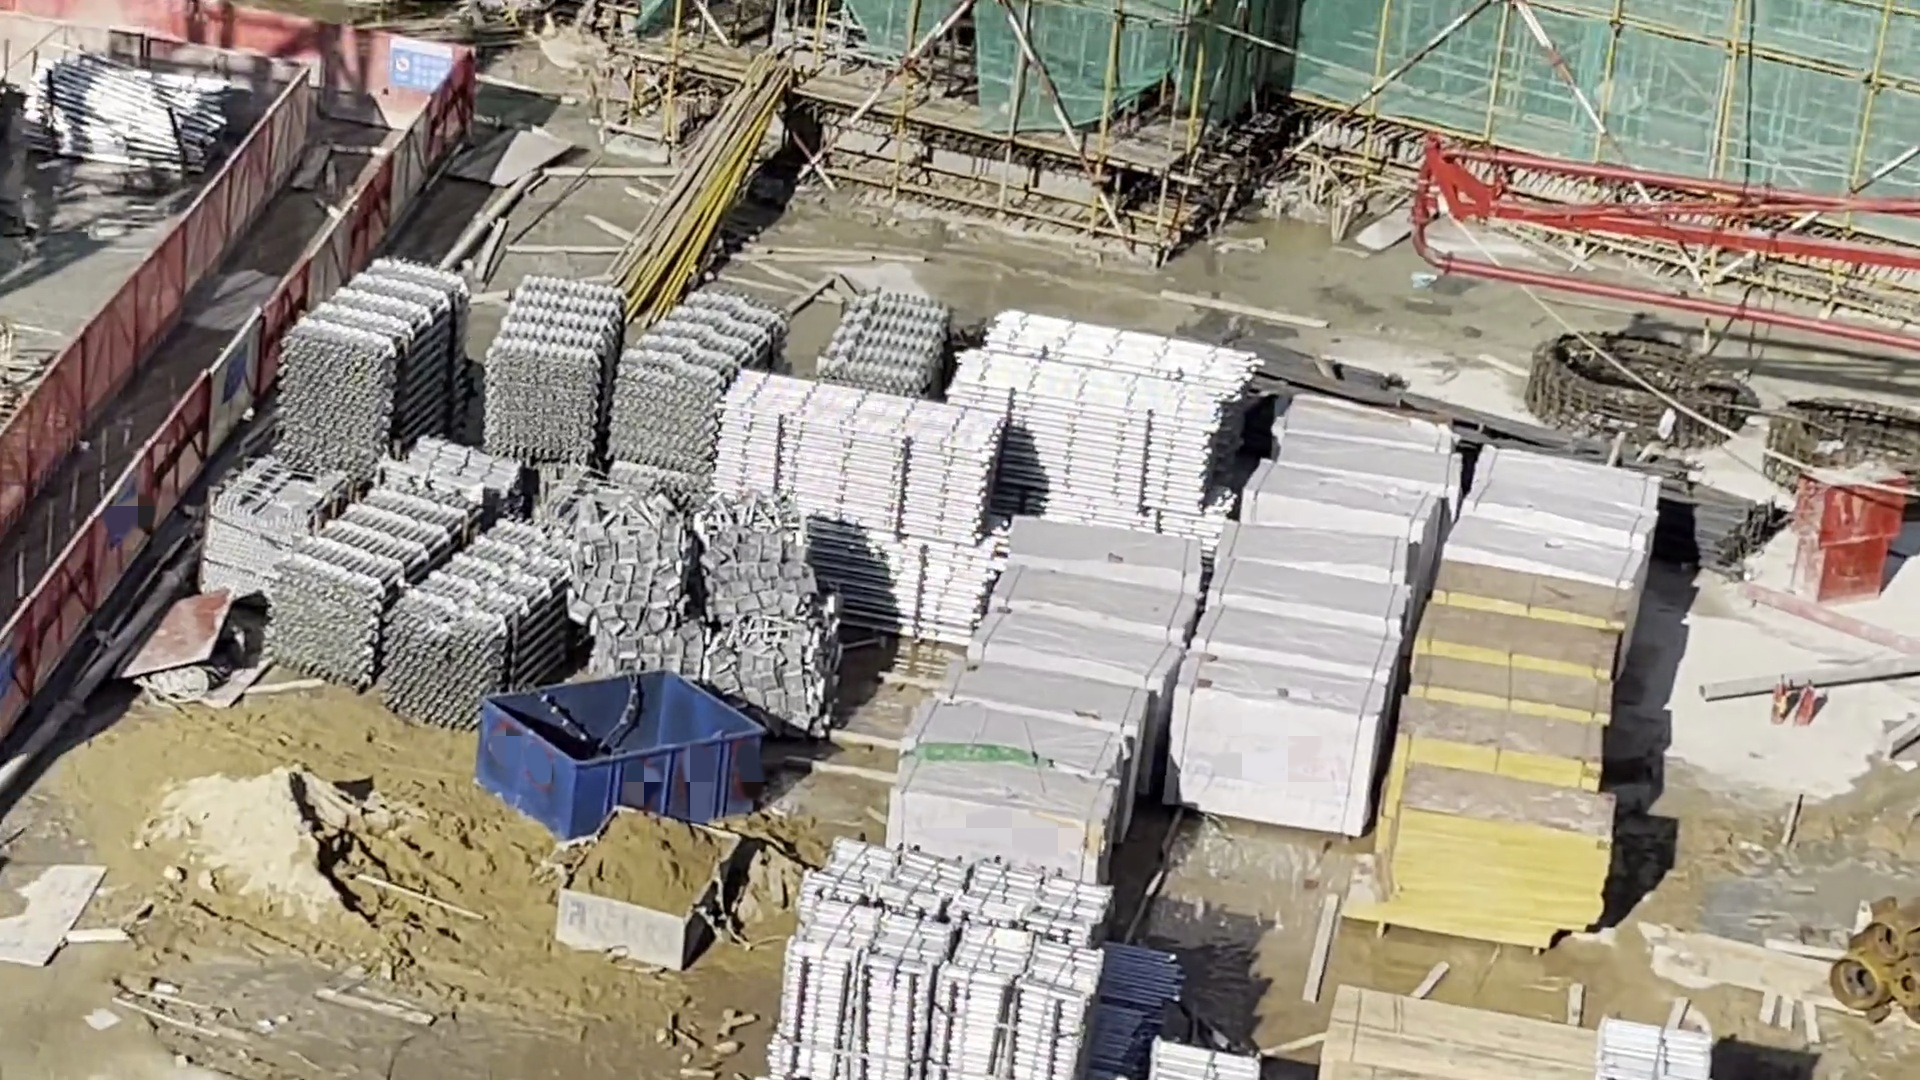board: (1367, 822, 1613, 952), (1425, 712, 1648, 806), (1433, 603, 1596, 687), (1416, 640, 1567, 731), (1464, 564, 1646, 629)
fence: (109, 1, 464, 149), (25, 335, 173, 651), (169, 162, 414, 229)
hopper: (488, 655, 771, 822)
rebar: (1669, 456, 1768, 572)
scaffold: (301, 313, 574, 686), (208, 274, 440, 624), (833, 861, 1051, 1076), (981, 316, 1139, 496), (727, 389, 928, 526), (831, 496, 969, 651), (41, 65, 199, 174), (822, 280, 963, 386), (651, 299, 729, 481), (1084, 953, 1188, 1080), (1604, 1025, 1671, 1080)
wood: (1316, 961, 1615, 1080)
